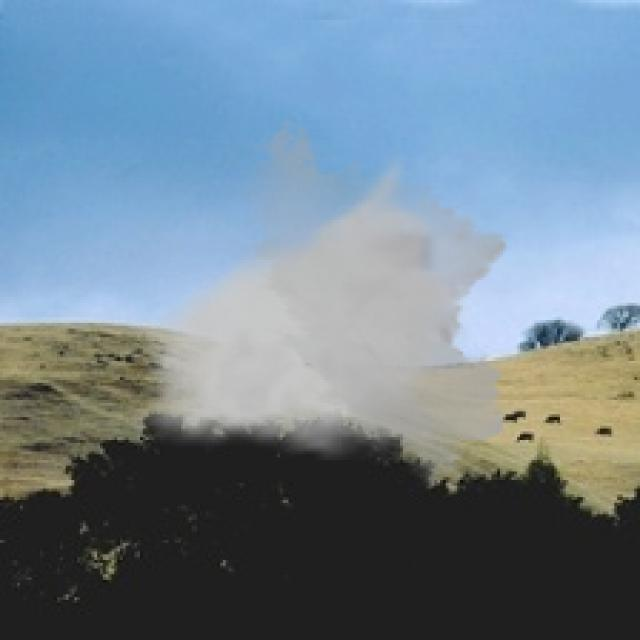smoke: (126, 117, 517, 489)
